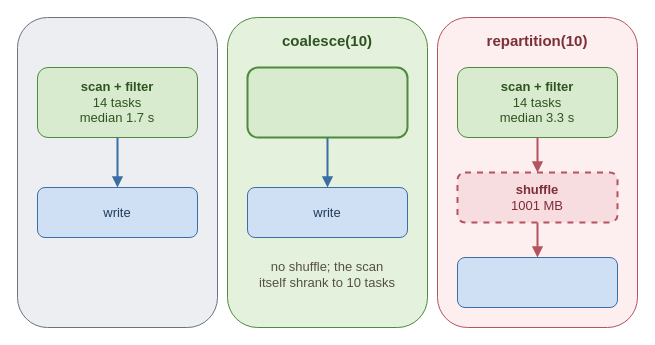
Some shapes in this 655 by 345 pixel diagram are drawn without their labels. Here are the shapes that lost their labels. From the top down, the box of each, then its label:
(246, 66, 408, 138): scan + filter + merge 10 tasks median 1.7 s
(16, 16, 218, 328): no change
(456, 256, 618, 308): write: 10 tasks
